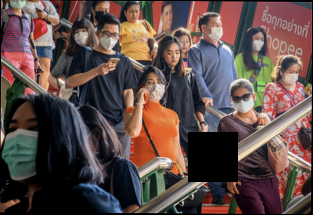with_mask: (2, 117, 41, 183), (229, 92, 256, 115), (144, 77, 167, 102), (98, 29, 120, 52), (206, 22, 225, 43), (281, 68, 301, 87), (73, 29, 90, 47), (92, 6, 111, 21), (251, 34, 266, 52), (9, 0, 27, 10)
without_mask: (163, 48, 183, 67), (178, 38, 191, 54), (127, 7, 140, 22)
